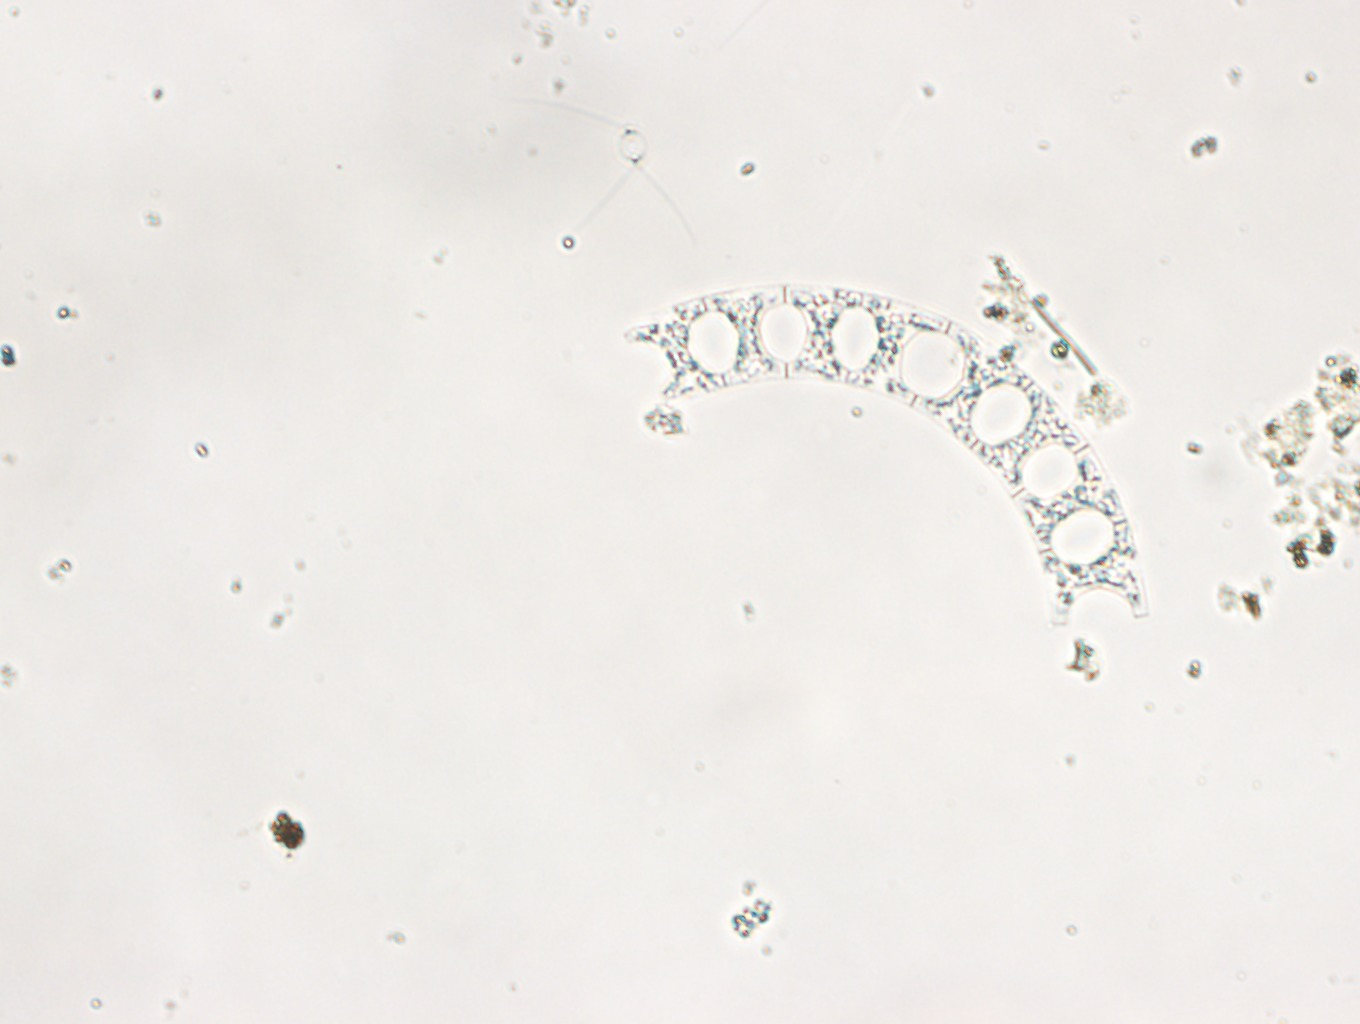chaetoceros: (499, 93, 704, 255)
eucampia: (621, 282, 1149, 624)
